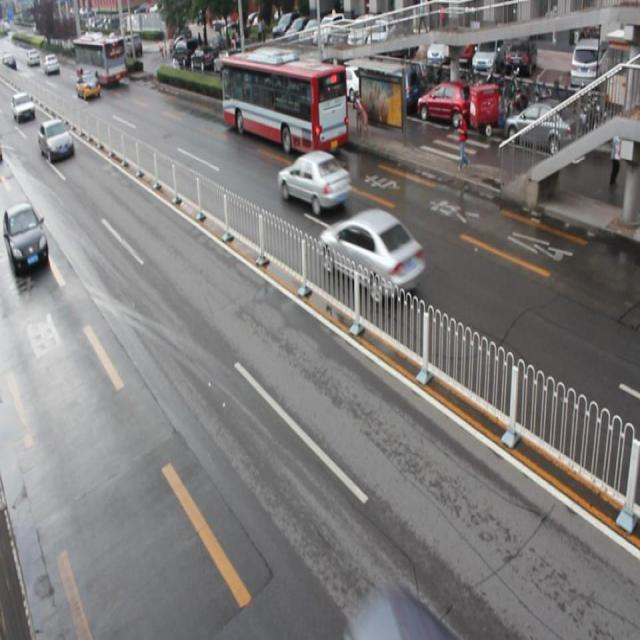car: (318, 206, 424, 301), (277, 148, 351, 212), (1, 201, 50, 273)
van: (221, 53, 347, 153)
